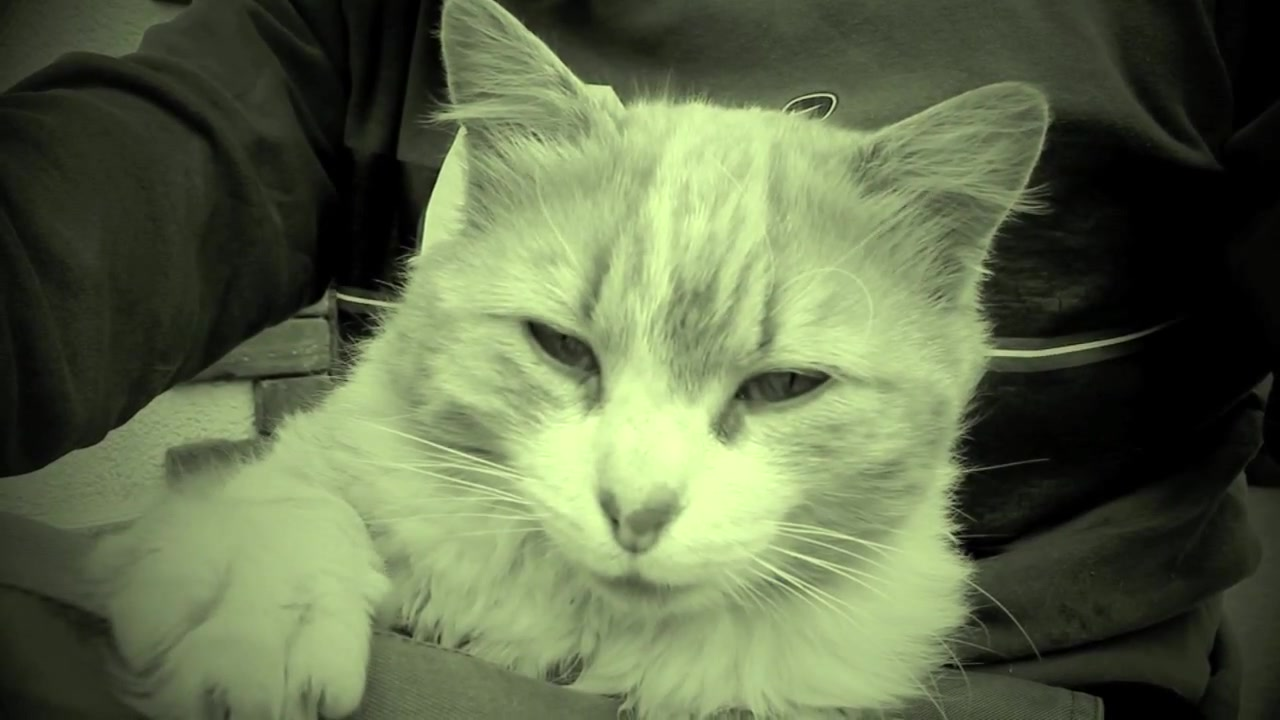cat: (84, 1, 1059, 720)
